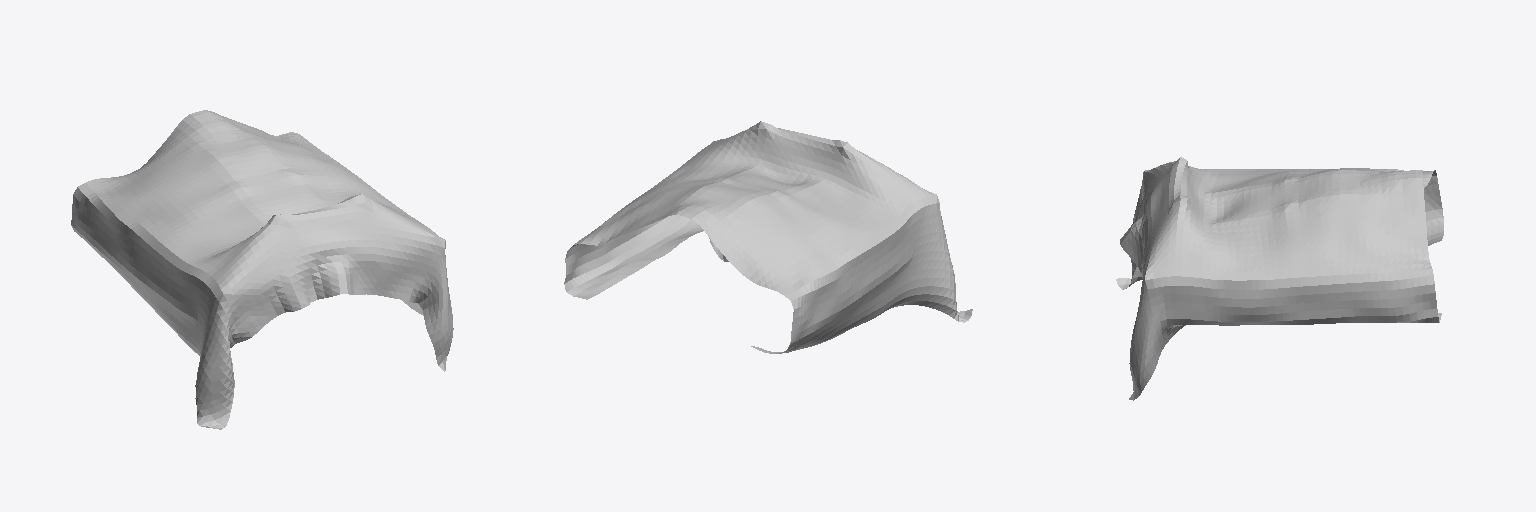
File: blanket_final.obj
The picture shows the model from 3 angles: view 1: azimuth 30°, elevation 25°; view 2: azimuth 150°, elevation 25°; view 3: azimuth 270°, elevation 25°; orthographic projection.
Visible parts, largest first — view 1: Plane; view 2: Plane; view 3: Plane.
Boxes of the visible parts, box(x1,y1,x2,y2) form: Plane: box(71, 110, 453, 429); Plane: box(564, 121, 972, 353); Plane: box(1116, 157, 1443, 400).
Bounding box in the file's own units: 11.93 × 7.88 × 13.2.